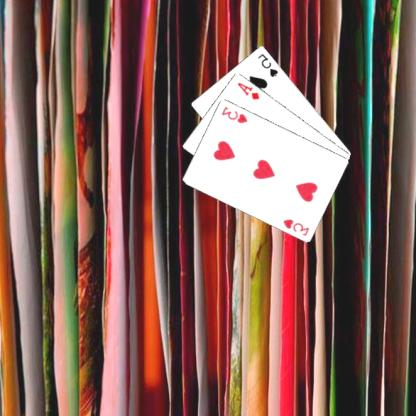3H: (282, 216, 312, 237), (221, 104, 250, 124)
5S: (257, 50, 282, 78)
AD: (236, 79, 263, 101)
